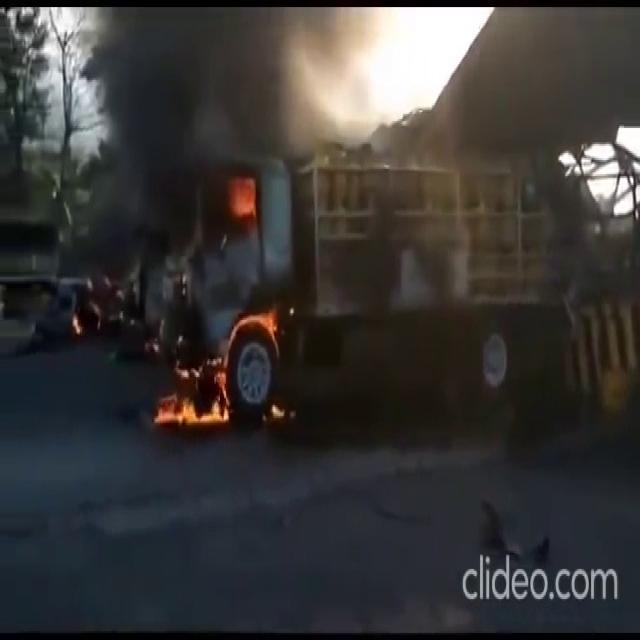Fire: (153, 248, 294, 444), (208, 172, 265, 232)
Smoke: (72, 3, 365, 165)
